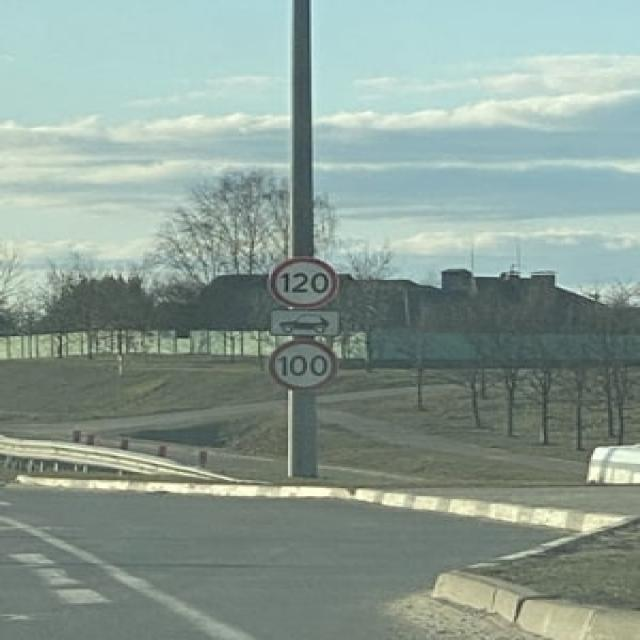Speed Limit -100-: (277, 355, 329, 377)
Speed Limit -120-: (280, 272, 330, 294)
